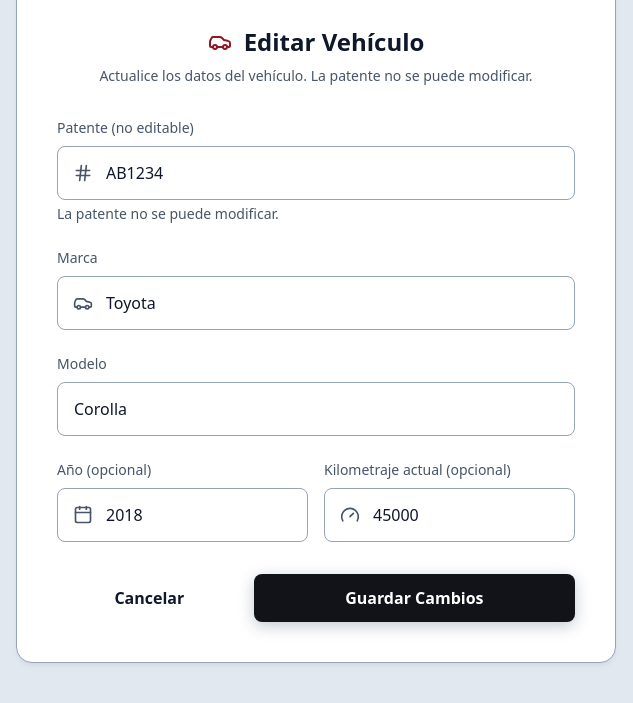
Test: ClientVehicleEditPage: edición de un vehículo propio › muestra el mensaje real de la Gateway si falla la actualización
The image size is (633, 703).
(page scrolled)
Click the button "Guardar Cambios": (414, 598) top-left (254, 574), bottom-right (575, 622)
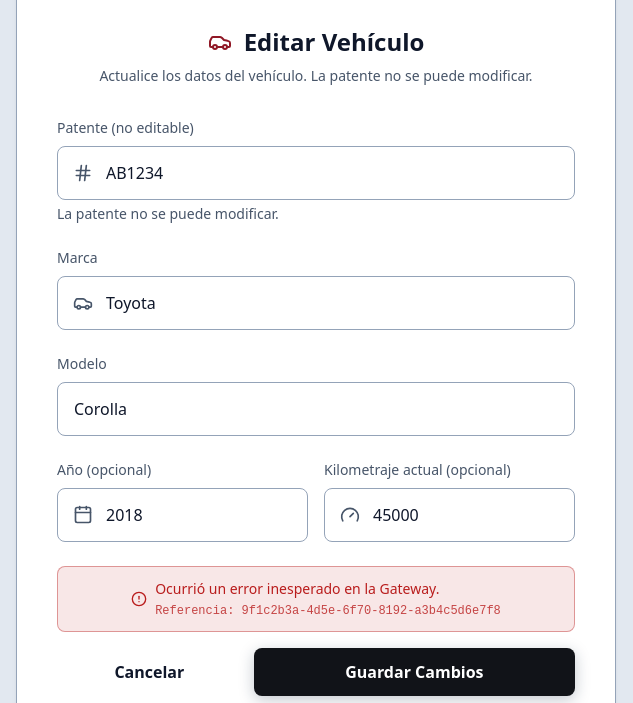
expect the text "Ocurrió un error inesperado en la Gateway." is shown: met, box top-left (155, 579), bottom-right (440, 598)
expect the text "Referencia: 9f1c2b3a-4d5e-6f70-8192-a3b4c5d6e7f8" is shown: met, box top-left (155, 603), bottom-right (501, 619)
